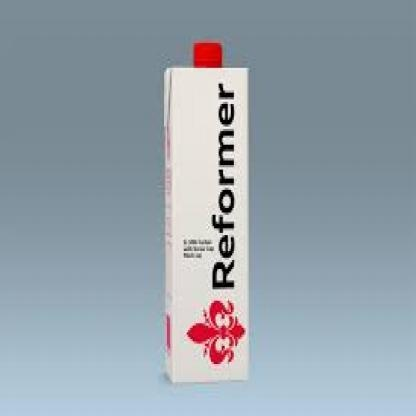trash: (164, 67, 248, 382)
